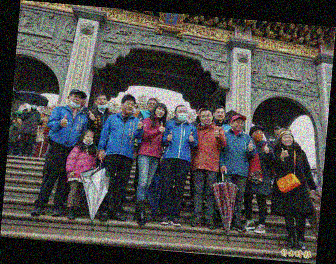mask_weared_incorrect: (68, 95, 83, 108), (200, 113, 213, 125), (96, 97, 107, 110), (83, 133, 94, 145)
with_mask: (175, 109, 188, 122), (251, 130, 264, 142), (31, 102, 38, 111)
without_mask: (280, 135, 294, 147), (121, 101, 135, 113), (155, 105, 166, 118), (232, 120, 244, 131), (213, 110, 225, 121), (147, 101, 158, 111), (273, 128, 281, 135)
